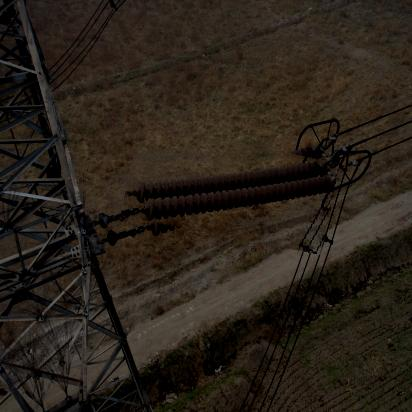insulator: (125, 135, 337, 248)
